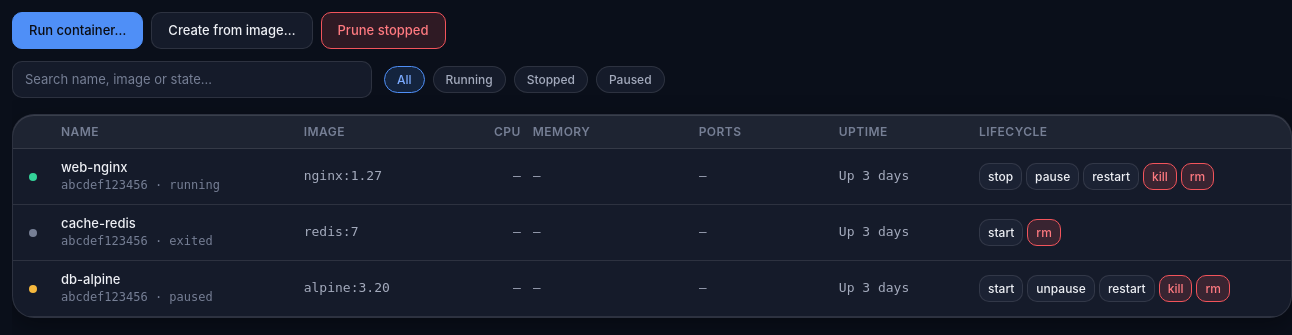
Test: ContainersScreen — text/state filtering (REQ-23) › narrows to running containers when the Running chip is active
This screenshot has width=1292, height=335.
Click the button "Running". click: [469, 79]
box: [433,66,506,93]
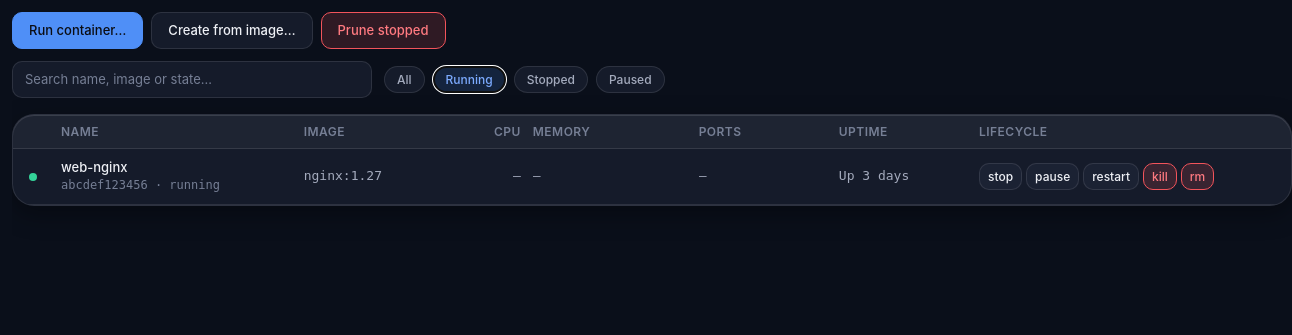
Expected: the text "web-nginx" is shown, [61,160,128,176]
Now the text "cache-redis" is gone
Now the text "db-alpine" is gone
